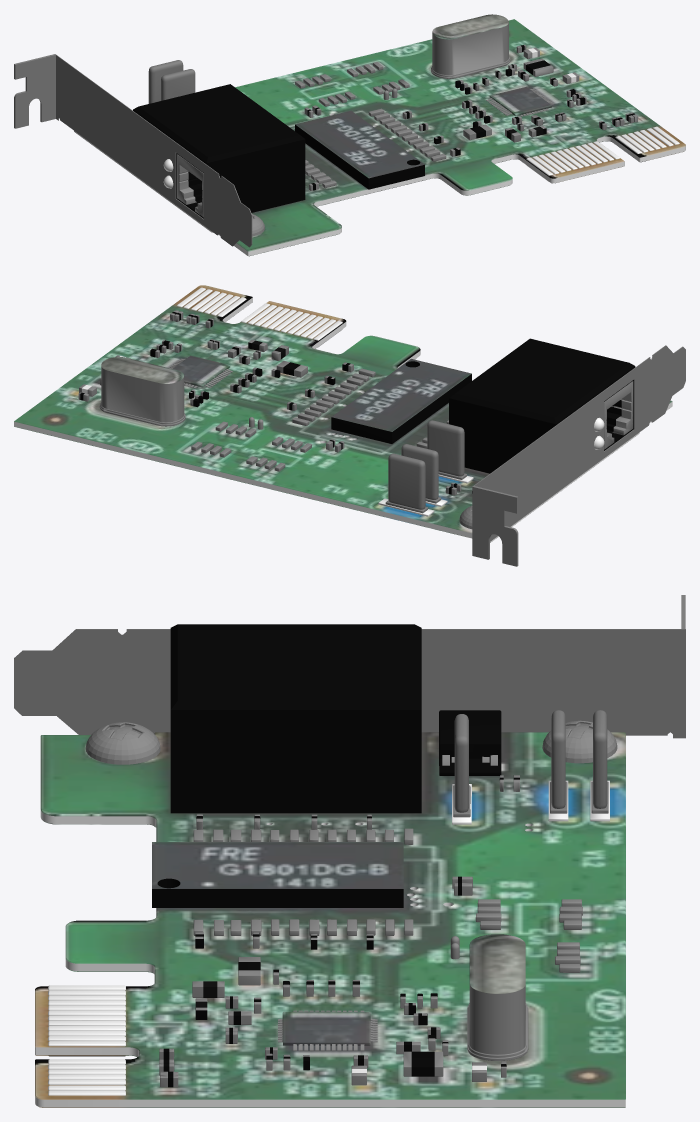
Rendered from dev-nic.glb.
3 views of the same model, one above another, from view 1: azimuth 30°, elevation 25°; view 2: azimuth 150°, elevation 25°; view 3: azimuth 270°, elevation 25° (orthographic). The views are drawn at different scales.
Visible parts, largest first — view 1: body; view 2: body; view 3: body.
Boxes of the visible parts, x1=… form: body: x1=14, y1=14, x2=685, y2=256; body: x1=14, y1=285, x2=685, y2=566; body: x1=14, y1=595, x2=685, y2=1107.
Size of the model in its own units: 0.12 by 0.0169 by 0.0848.
Materials: 7 (1 with a texture image).
